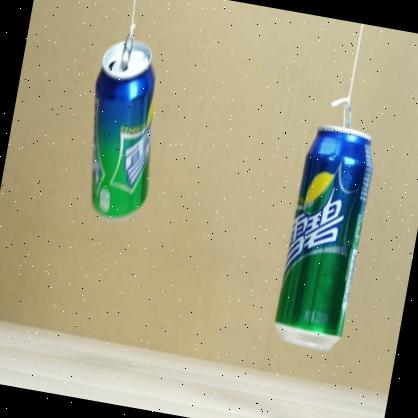can: (270, 119, 379, 354), (73, 31, 176, 224)
